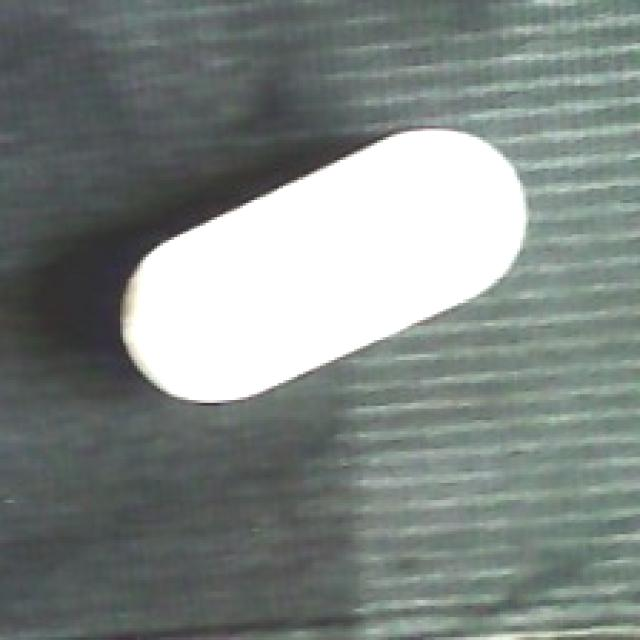no-defect: (120, 128, 534, 408)
